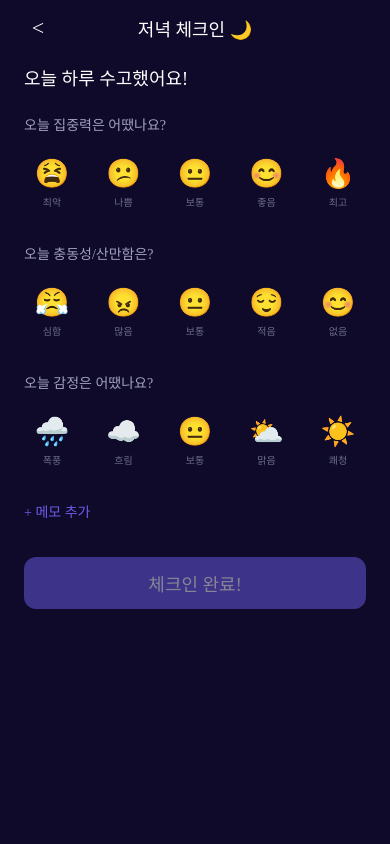
Scenario: CheckinScreen › evening rendering (14:00-03:59) › expands memo on tap
The width and height of the screenshot is (390, 844).
Click the text "+ 메모 추가".
click(57, 512)  # box [24, 505, 90, 520]
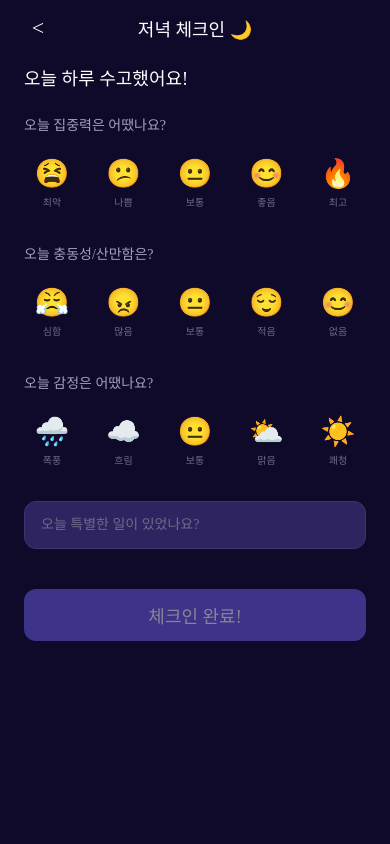
Check: the field with placeholder "오늘 특별한 일이 있었나요?" is shown, box [24, 501, 366, 549]
